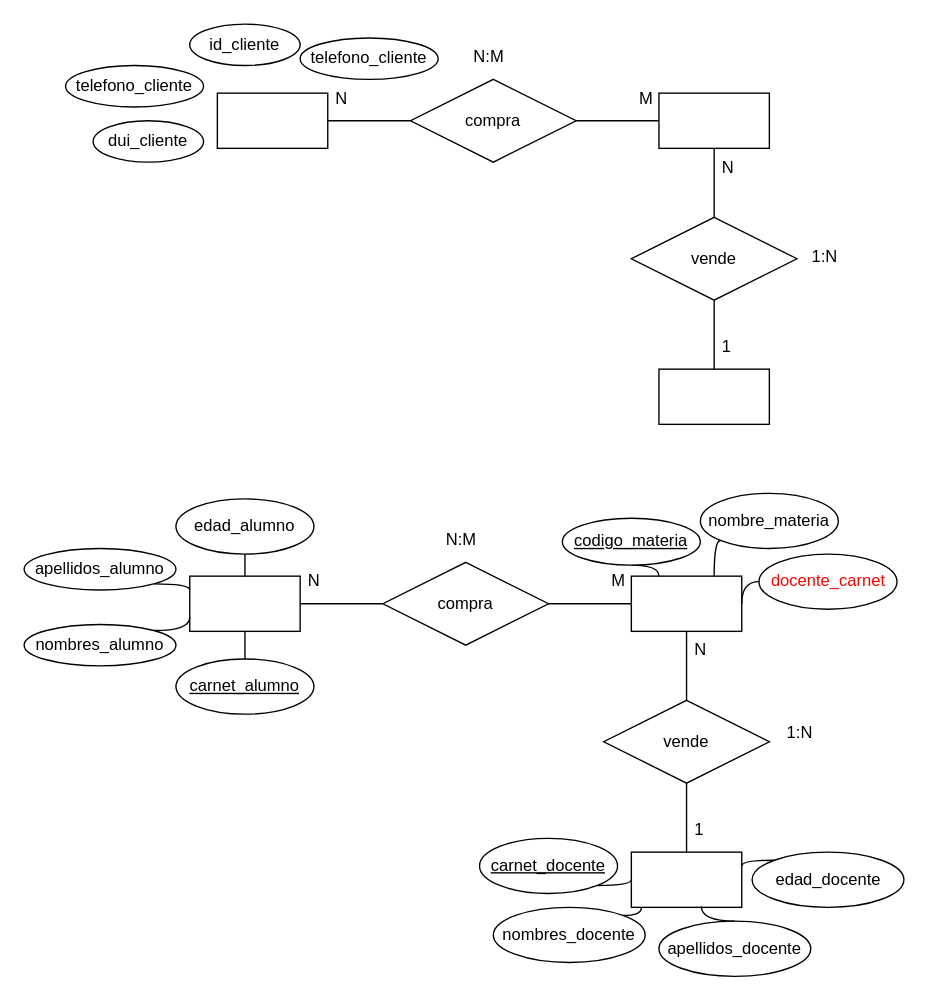
The diagram is 929 pixels wide and 1001 high, and some of its shapes have lost their labels. The centre of each missing label's shape, as x and y in pixels:
Alumno: [244,603]
Articulo: [713,120]
Cliente: [272,120]
Docente: [686,879]
Materias: [686,603]
Proveedor: [713,396]
